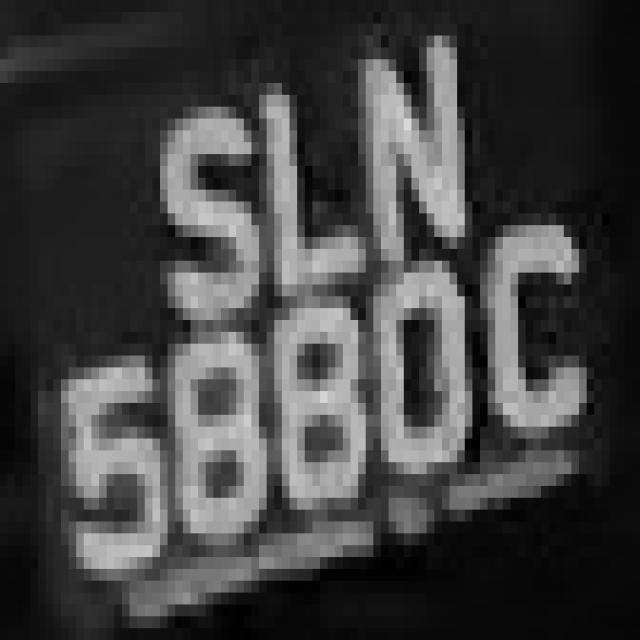0: (358, 237, 480, 545)
5: (46, 320, 175, 593)
8: (244, 272, 366, 580), (160, 296, 290, 569)
C: (457, 166, 610, 498)
L: (236, 71, 374, 285)
N: (335, 36, 480, 272)
S: (130, 47, 266, 332)
